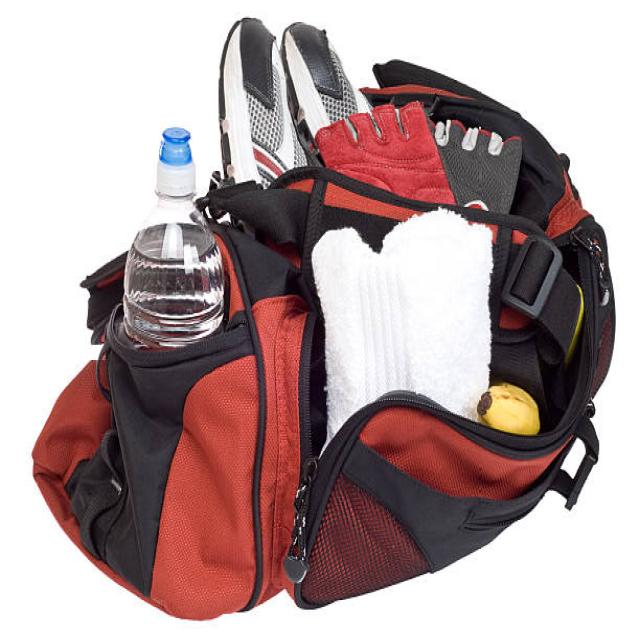bags: (26, 62, 617, 614)
